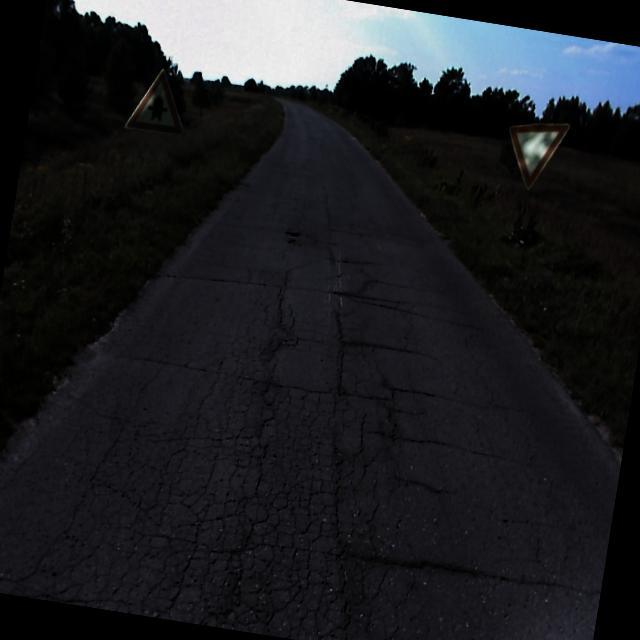road: (0, 100, 620, 640)
